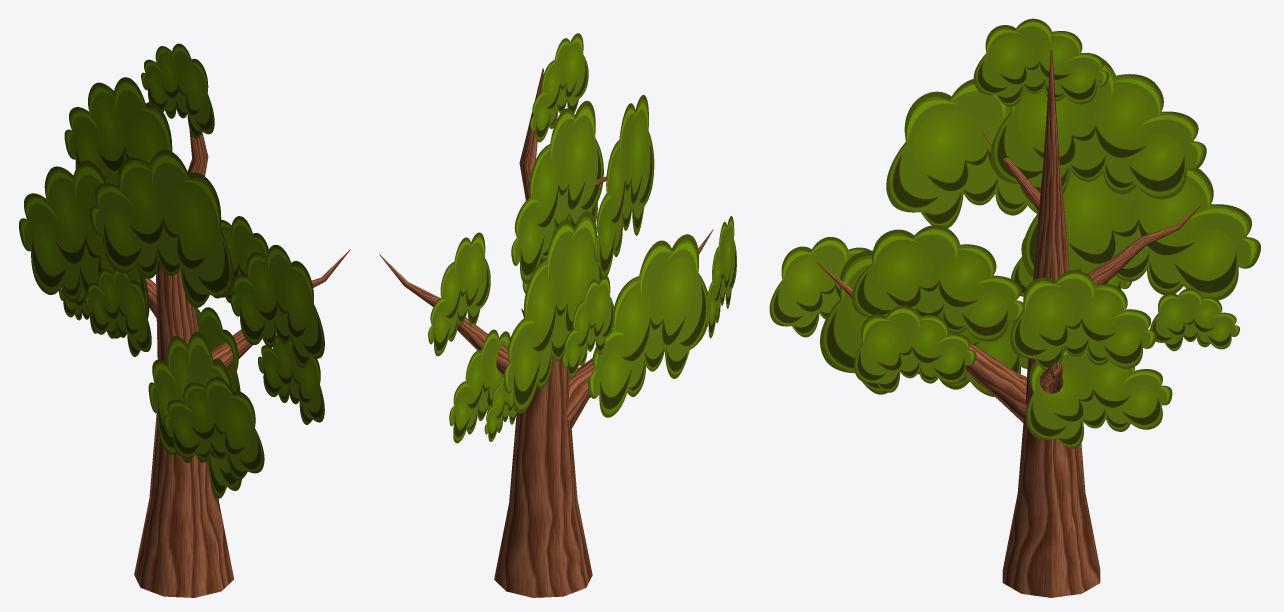
Rendered from tree.fbx.
3 renders of one model, left to right at view 1: azimuth 30°, elevation 25°; view 2: azimuth 150°, elevation 25°; view 3: azimuth 270°, elevation 25°, orthographic. The views are drawn at different scales.
Visible parts, largest first — view 1: pPlane6, pCylinder1, pPlane4, pPlane12, pPlane7, pPlane1, pPlane2, pPlane8, pPlane3, pPlane10, pPlane9, pPlane11 (+2 smaller); view 2: pCylinder1, pPlane2, pPlane4, pPlane7, pPlane6, pPlane9, pPlane8, pPlane11, pPlane3, pPlane1, pCylinder2, pCylinder5 (+1 smaller); view 3: pPlane7, pPlane4, pCylinder1, pPlane6, pPlane12, pPlane9, pPlane11, pPlane8, pPlane10, pPlane1, pPlane2, pPlane5 (+3 smaller).
Part boxes in pixels (x1,y1,x2,y2): pPlane6: [89, 150, 233, 307]; pCylinder1: [134, 129, 234, 597]; pPlane4: [19, 160, 149, 338]; pPlane12: [230, 245, 324, 368]; pPlane7: [64, 77, 172, 186]; pPlane1: [163, 377, 264, 480]; pPlane2: [148, 331, 241, 498]; pPlane8: [141, 43, 214, 138]; pPlane3: [85, 269, 151, 356]; pPlane10: [258, 335, 324, 424]; pPlane9: [213, 216, 268, 303]; pPlane11: [194, 307, 240, 392]; pCylinder1: [494, 68, 592, 597]; pPlane2: [588, 234, 707, 417]; pPlane4: [503, 211, 601, 413]; pPlane7: [511, 101, 603, 283]; pPlane6: [594, 95, 654, 279]; pPlane9: [428, 232, 490, 356]; pPlane8: [530, 33, 588, 142]; pPlane11: [449, 329, 510, 443]; pPlane3: [562, 276, 614, 378]; pPlane1: [705, 216, 736, 338]; pCylinder2: [379, 254, 509, 375]; pCylinder5: [567, 229, 713, 429]; pPlane7: [990, 58, 1206, 199]; pPlane4: [1022, 168, 1260, 300]; pCylinder1: [1002, 50, 1100, 597]; pPlane6: [886, 79, 1037, 228]; pPlane12: [851, 225, 1023, 341]; pPlane9: [1010, 270, 1156, 370]; pPlane11: [1026, 348, 1172, 448]; pPlane8: [973, 18, 1109, 106]; pPlane10: [854, 305, 976, 392]; pPlane1: [769, 237, 870, 337]; pPlane2: [820, 250, 1027, 396]; pPlane5: [1150, 288, 1239, 351].
Size of the model in its own units: 7.74 by 15.45 by 12.7.
Materials: 1 (1 with a texture image).
